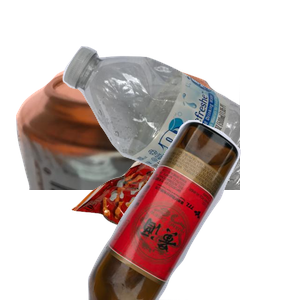glass: (85, 120, 300, 300)
metal: (13, 61, 240, 241)
plastic: (60, 44, 300, 224)
trash: (69, 153, 239, 300)
